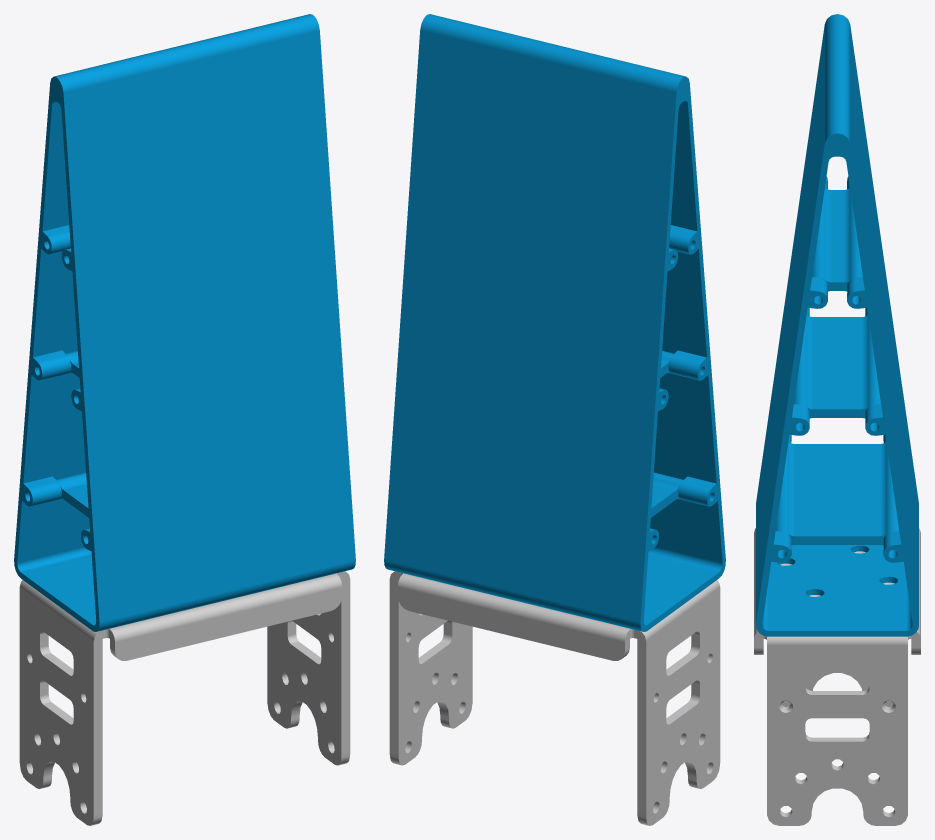
File: 50-TCP-04.dae
3 views of the same model, side by side, from view 1: azimuth 30°, elevation 25°; view 2: azimuth 150°, elevation 25°; view 3: azimuth 270°, elevation 25° (orthographic). The views are drawn at different scales.
Parts seen in each view (by area): view 1: _88-MoveIt-60-TCP-04; view 2: _88-MoveIt-60-TCP-04; view 3: _88-MoveIt-60-TCP-04.
Part boxes in pixels (<box>): _88-MoveIt-60-TCP-04: <box>14,14,355,825</box>; _88-MoveIt-60-TCP-04: <box>384,14,725,825</box>; _88-MoveIt-60-TCP-04: <box>754,14,920,825</box>.
Bounding box in the file's own units: 0.044 × 0.026 × 0.119.
